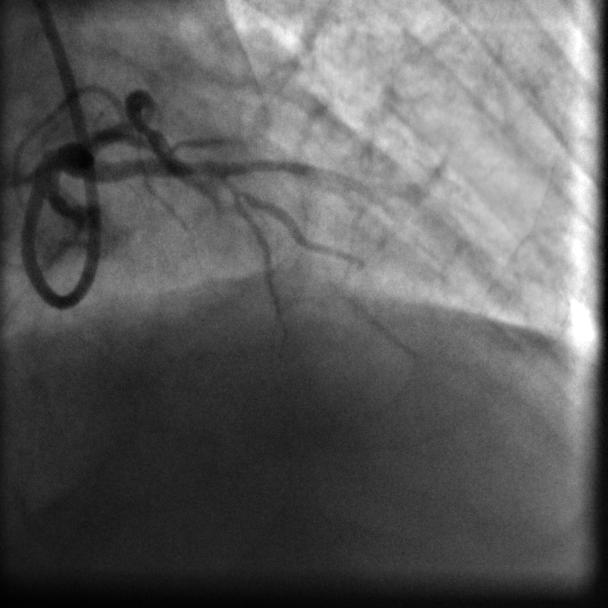Stenosis: (136, 113, 157, 141)
